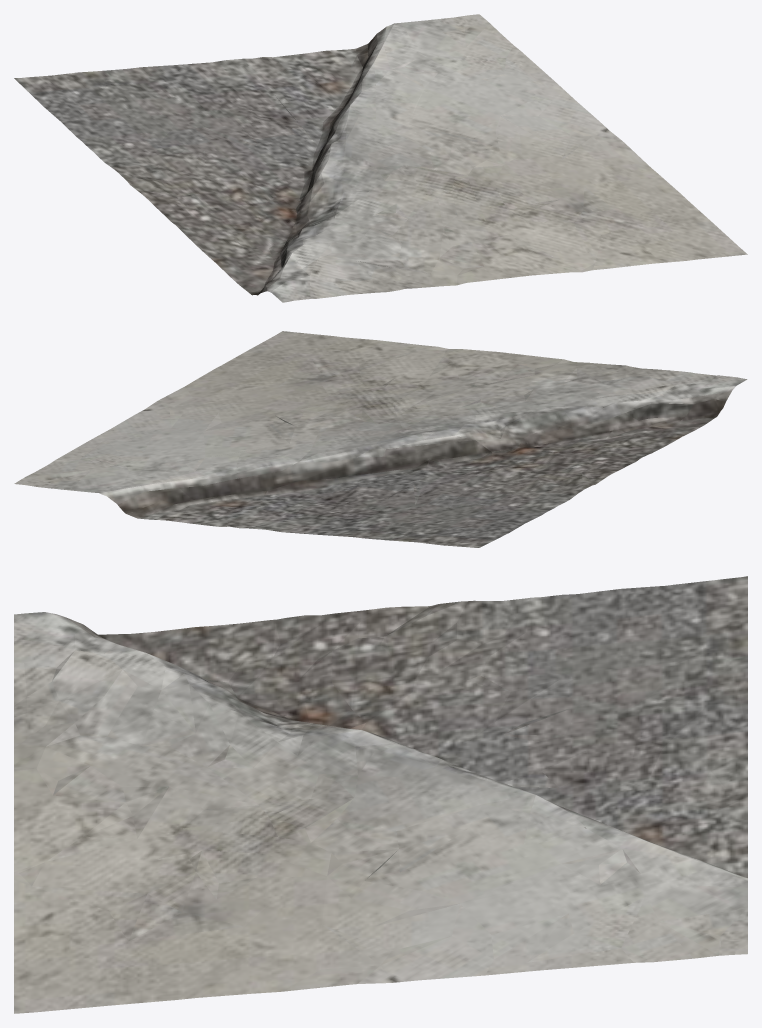
3 renders of one model, top to bottom at view 1: azimuth 30°, elevation 25°; view 2: azimuth 150°, elevation 25°; view 3: azimuth 270°, elevation 25°, orthographic. The views are drawn at different scales.
Size of the model in its own units: 0.8373 by 0.1605 by 0.8374.
3 materials, 3 textured.
